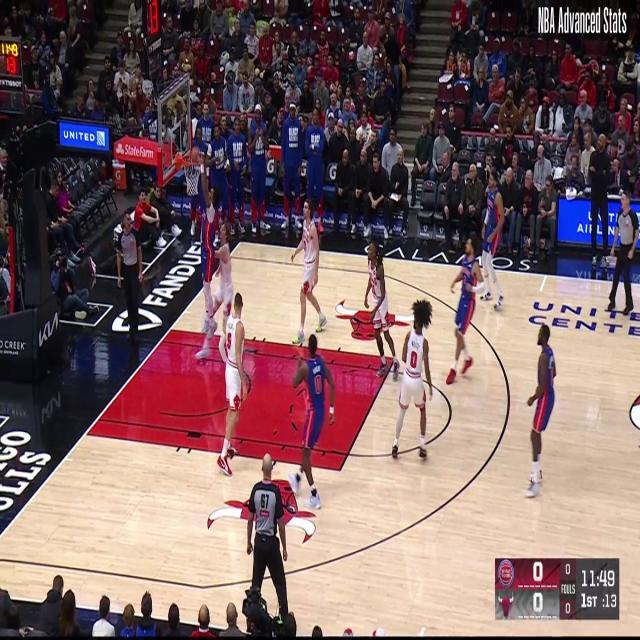ball: (188, 138, 204, 168)
player: (288, 332, 336, 512), (390, 296, 434, 462), (216, 291, 252, 478), (524, 324, 560, 501), (196, 153, 226, 364), (444, 232, 484, 387), (474, 167, 514, 317), (290, 196, 328, 348), (362, 239, 400, 382), (212, 218, 247, 358)
